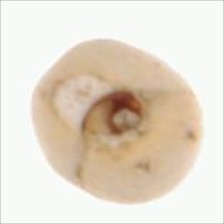L3: (78, 87, 151, 152)
L4: (30, 38, 203, 205)
